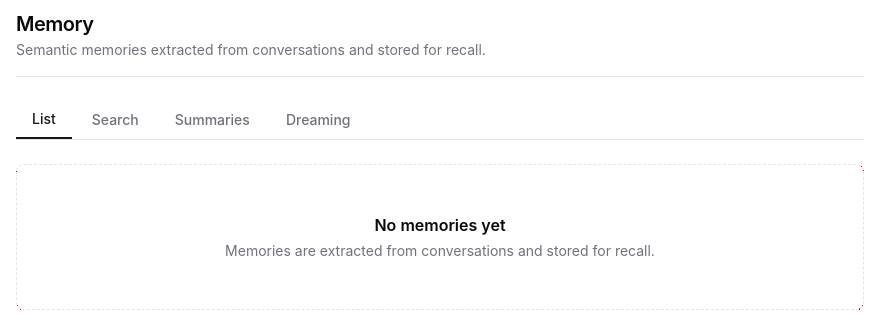
Scenario: MemoryView › shows an empty state when there are no summaries
The image size is (881, 327).
Click the button "summaries" at (212,120), box left=159, top=101, right=266, bottom=139
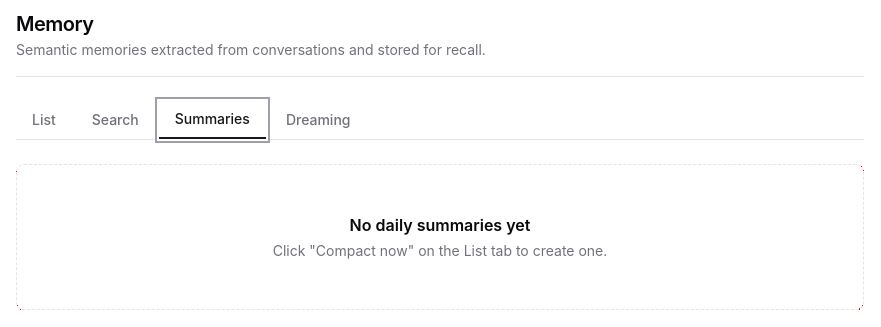
Check: the heading "No daily summaries yet" is shown, box left=350, top=213, right=530, bottom=237
